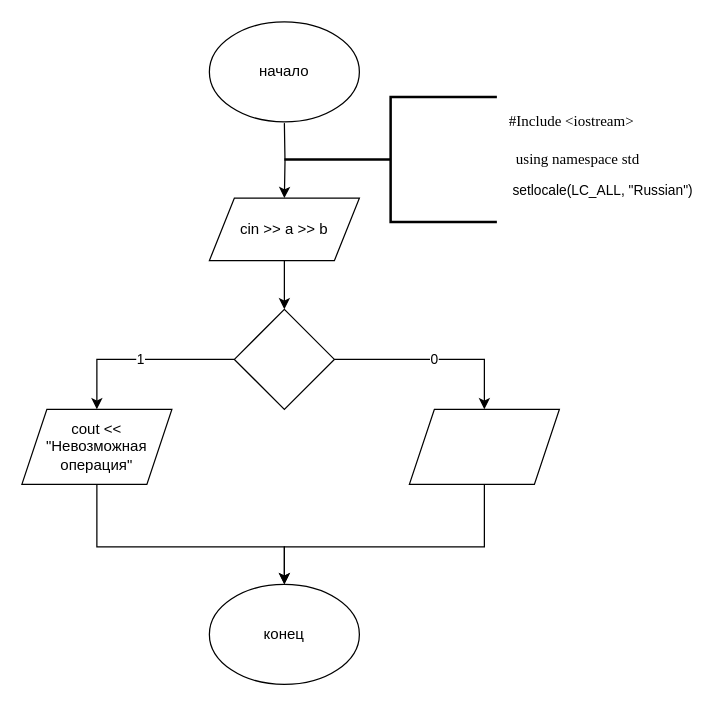
Image size: 719x706. Some labels were removed from this diagram. Here are the shapes that lost their labels. From the top down, the centre of each, then its label:
At point 283,358: "if (b=0)".
At point 483,446: "cout << a/b".
